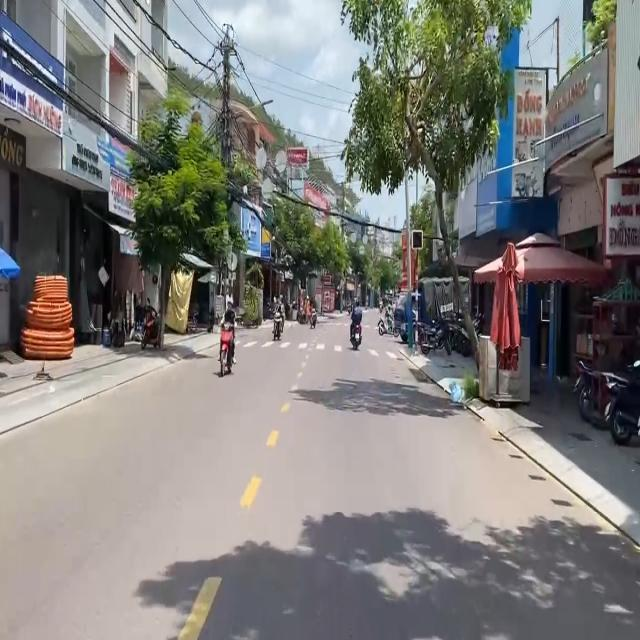walk-crossing: (244, 336, 403, 366)
